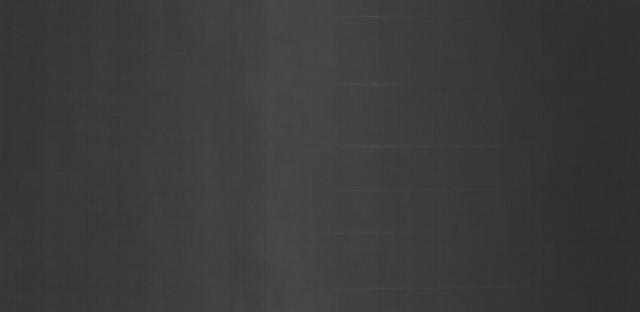waist_folding: (303, 50, 513, 282)
